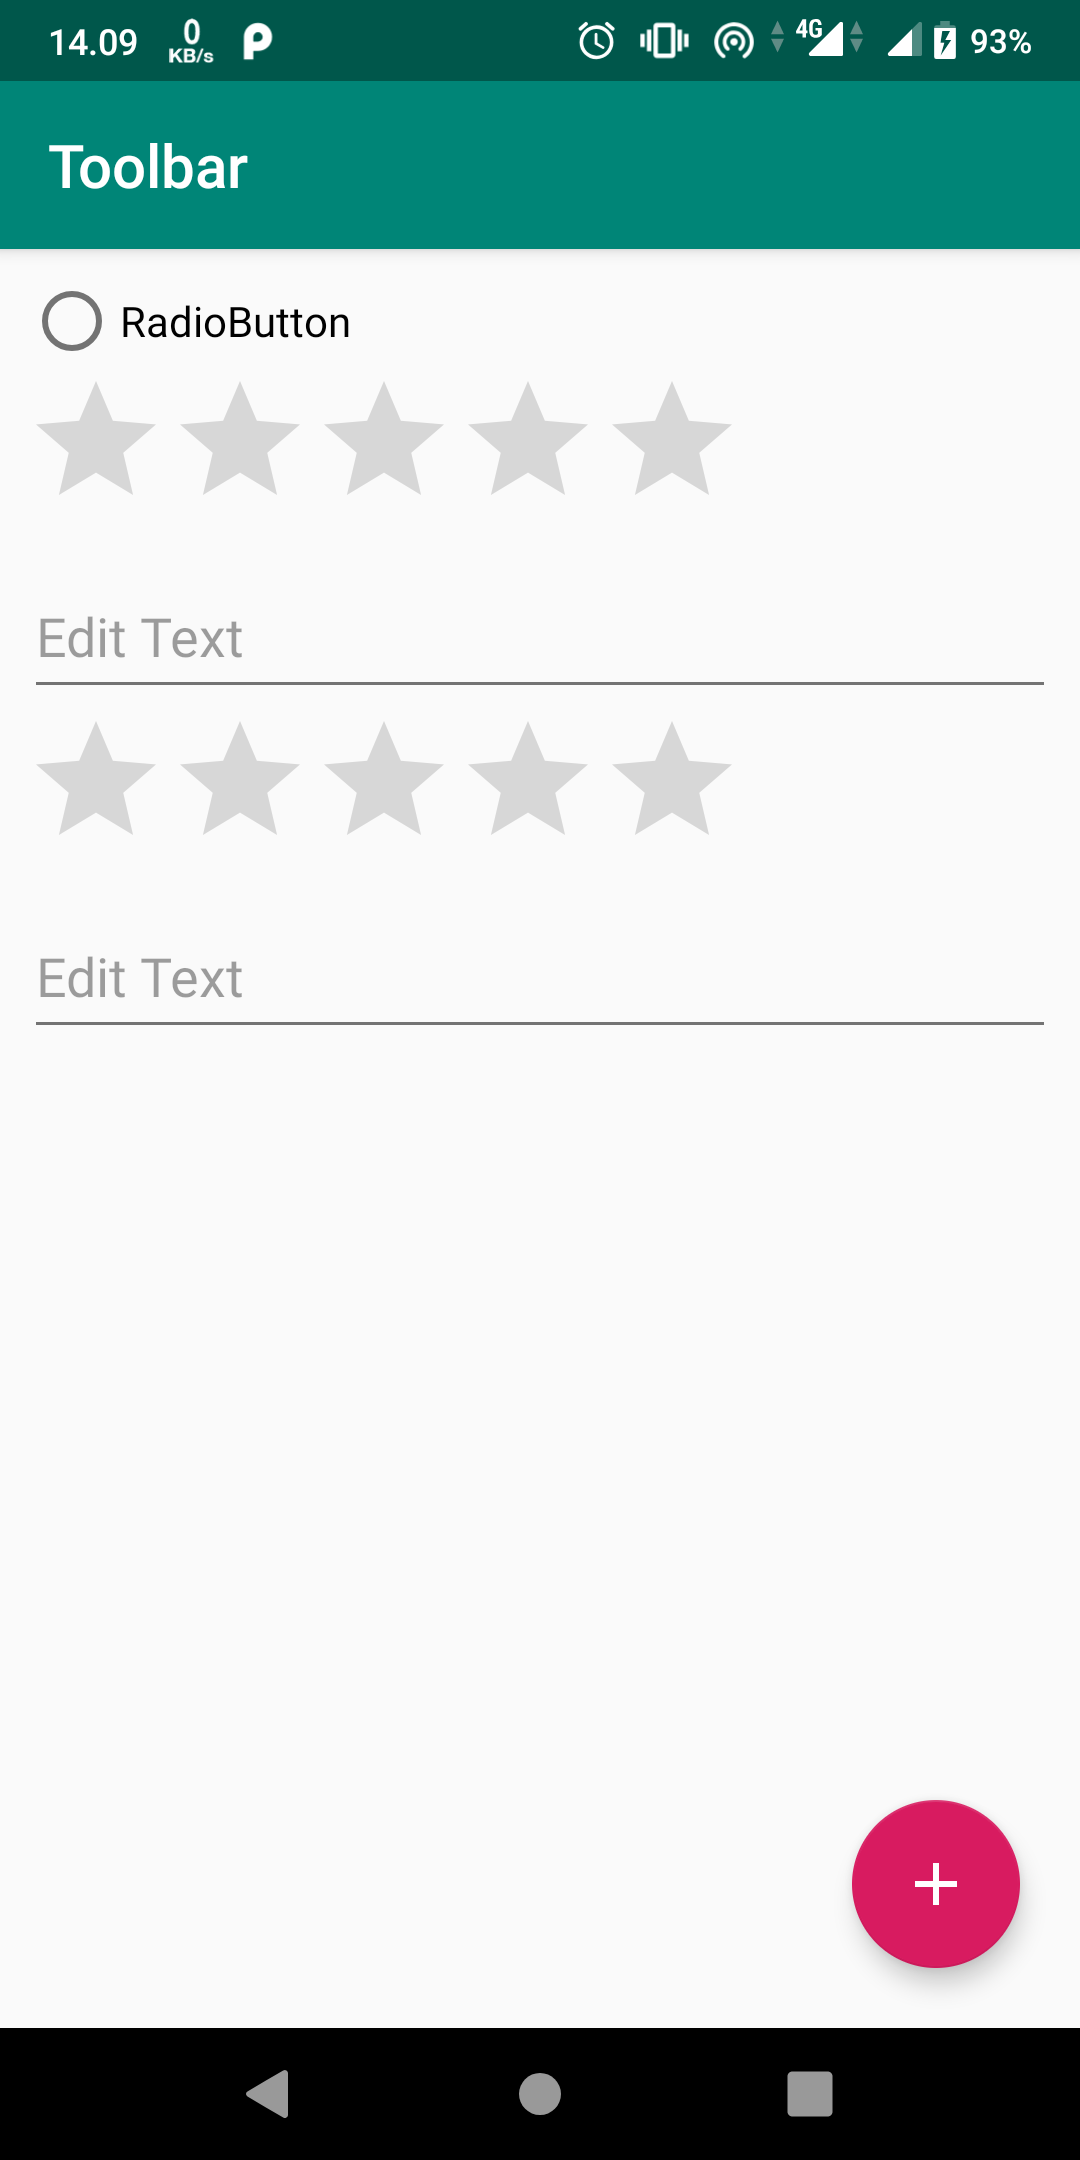editText: (21, 924, 1055, 1051), (23, 602, 1059, 707)
floatingButton: (846, 1789, 1026, 1973)
radioButton: (33, 277, 382, 364)
ratingBar: (26, 715, 736, 844), (33, 380, 742, 499)
toolbar: (4, 80, 1080, 244)
